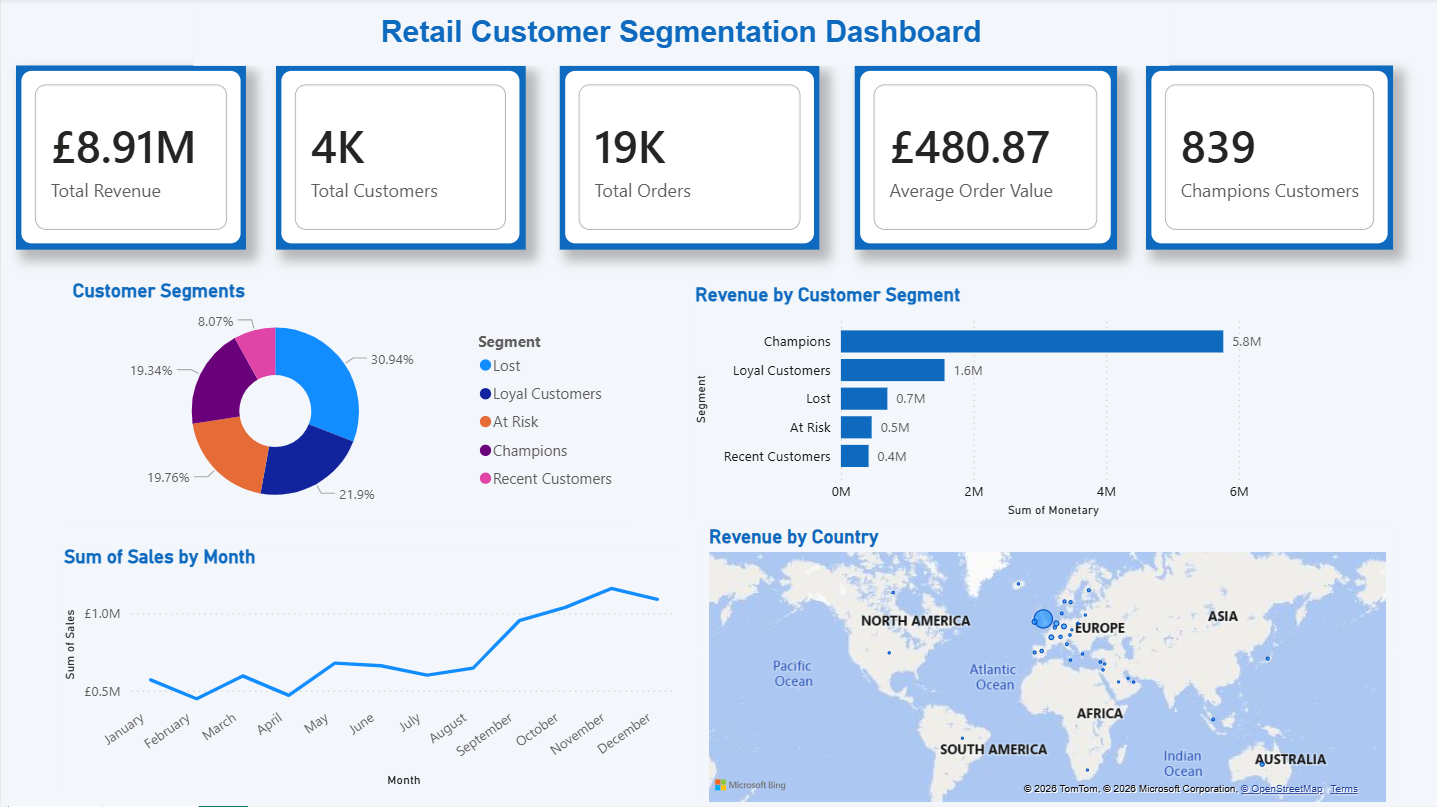

The page's visual inventory and layout, read from the dashboard file:
{"tool":"powerbi","page":{"name":"Page 1","canvas":[1280,720],"ordinal":0},"visuals":[{"type":"cardVisual","fields":{"Data":["clean_retail.Total Revenue"]},"box":[13.8,60,205,163.8],"z":0},{"type":"cardVisual","fields":{"Data":["clean_retail.Total Customers"]},"box":[245,60,222.5,163.8],"z":1000},{"type":"cardVisual","fields":{"Data":["clean_retail.Total Orders"]},"box":[497.5,60,231.2,163.8],"z":2000},{"type":"cardVisual","fields":{"Data":["clean_retail.Average Order Value"]},"box":[760,60,233.8,163.8],"z":3000},{"type":"cardVisual","fields":{"Data":["clean_retail.Champions Customers"]},"box":[1020,60,220,163.8],"z":4000},{"type":"textbox","box":[171.2,10,868.8,50],"z":5000},{"type":"donutChart","title":"Customer Segments","fields":{"Category":["rfm_segments.Segment"],"Y":["Count(rfm_segments.CustomerID)"]},"box":[58.8,250,500,220],"z":6000},{"type":"clusteredBarChart","title":"Revenue by Customer Segment","fields":{"Category":["rfm_segments.Segment"],"Y":["Sum(rfm_segments.Monetary)"]},"box":[613.8,253.8,527.5,213.8],"z":7000},{"type":"lineChart","fields":{"Category":["clean_retail.InvoiceDate.Variation.Date Hierarchy.Month"],"Y":["Sum(clean_retail.Sales)"]},"box":[51.2,487.5,555,220],"z":8000},{"type":"map","title":"Revenue by Country","fields":{"Category":["clean_retail.Country"],"Size":["Sum(clean_retail.Sales)"]},"box":[626.1,469.3,612.9,250.9],"z":9000}]}

Visuals, with their boxes in screenshot pixels (x1, y1, x2, y2), scaled from the page's 1280x720 canvas onto the 1437x807 screenshot:
cardVisual - clean_retail.Total Revenue: locate(15, 67, 246, 251)
cardVisual - clean_retail.Total Customers: locate(275, 67, 525, 251)
cardVisual - clean_retail.Total Orders: locate(559, 67, 818, 251)
cardVisual - clean_retail.Average Order Value: locate(853, 67, 1116, 251)
cardVisual - clean_retail.Champions Customers: locate(1145, 67, 1392, 251)
textbox: locate(192, 11, 1168, 67)
"Customer Segments" donutChart: locate(66, 280, 627, 527)
"Revenue by Customer Segment" clusteredBarChart: locate(689, 284, 1281, 524)
lineChart - clean_retail.InvoiceDate.Variation.Date Hierarchy.Month x Sum(clean_retail.Sales): locate(57, 546, 681, 793)
"Revenue by Country" map: locate(703, 526, 1391, 806)
